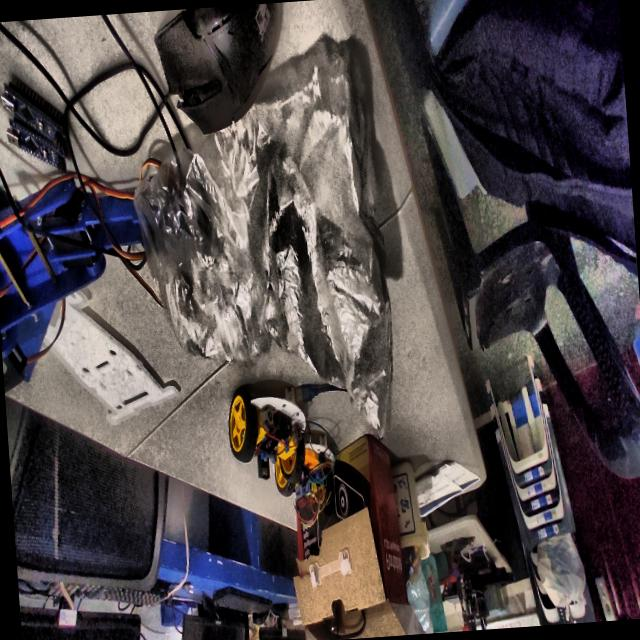plastic bag: (134, 37, 392, 436)
